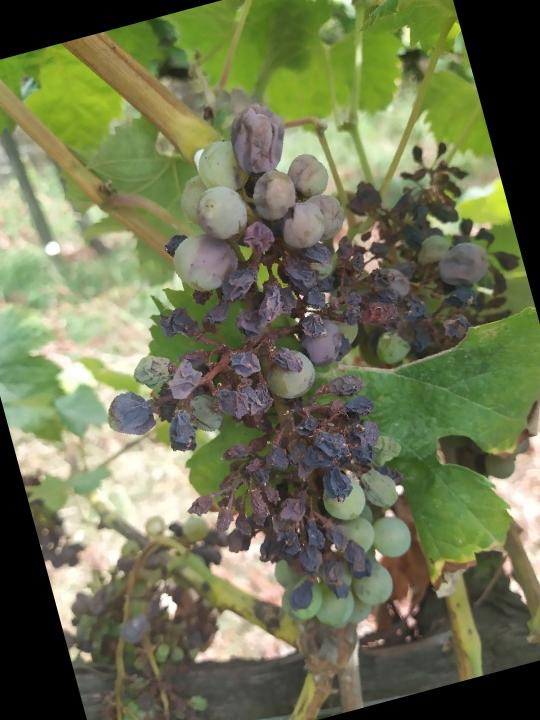grape: (34, 73, 494, 681)
